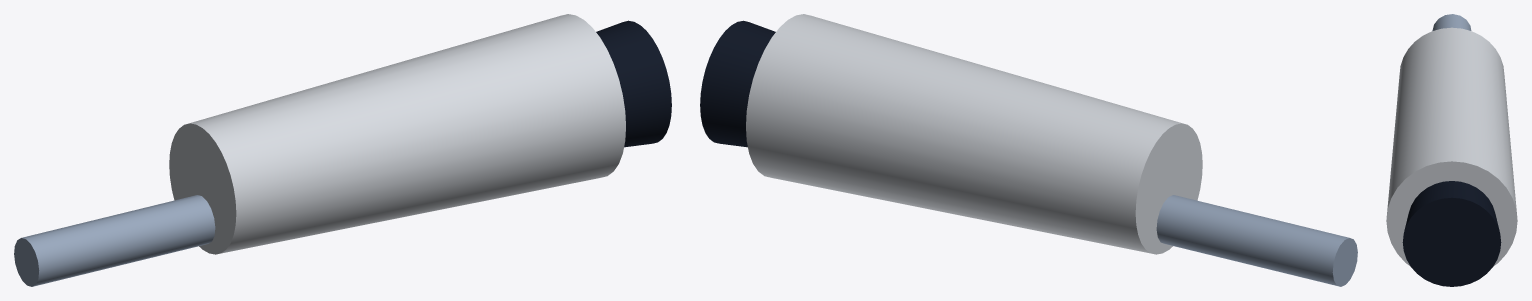
File: generic-exhaust.glb
3 renders of one model, left to right at view 1: azimuth 30°, elevation 25°; view 2: azimuth 150°, elevation 25°; view 3: azimuth 270°, elevation 25°, orthographic. The views are drawn at different scales.
Parts seen in each view (by area): view 1: silencer_body, connector_pipe, black_tip; view 2: silencer_body, connector_pipe, black_tip; view 3: silencer_body, black_tip, connector_pipe.
Boxes of the visible parts, x1=… form: silencer_body: x1=169, y1=14, x2=625, y2=254; connector_pipe: x1=14, y1=195, x2=215, y2=286; black_tip: x1=596, y1=20, x2=671, y2=147; silencer_body: x1=746, y1=14, x2=1202, y2=254; connector_pipe: x1=1156, y1=195, x2=1357, y2=286; black_tip: x1=700, y1=20, x2=775, y2=147; silencer_body: x1=1386, y1=27, x2=1517, y2=266; black_tip: x1=1402, y1=181, x2=1501, y2=286; connector_pipe: x1=1432, y1=14, x2=1471, y2=30.
Size of the model in its own units: 1.61 by 0.38 by 0.38.
